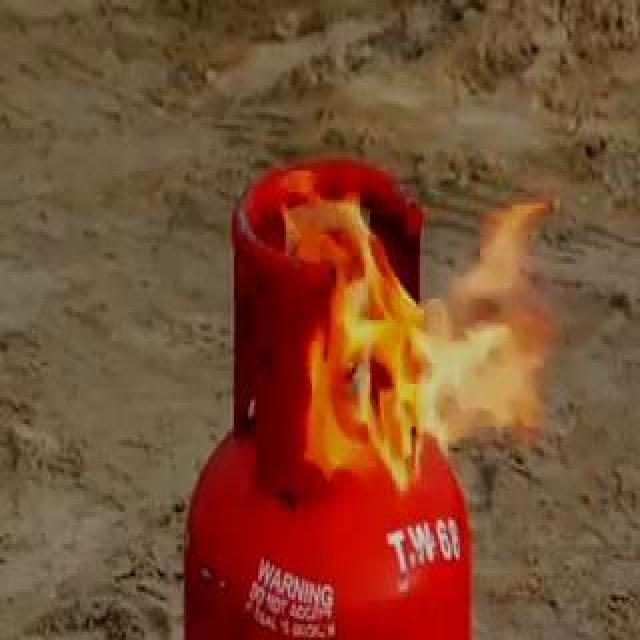Fire: (264, 139, 636, 517)
